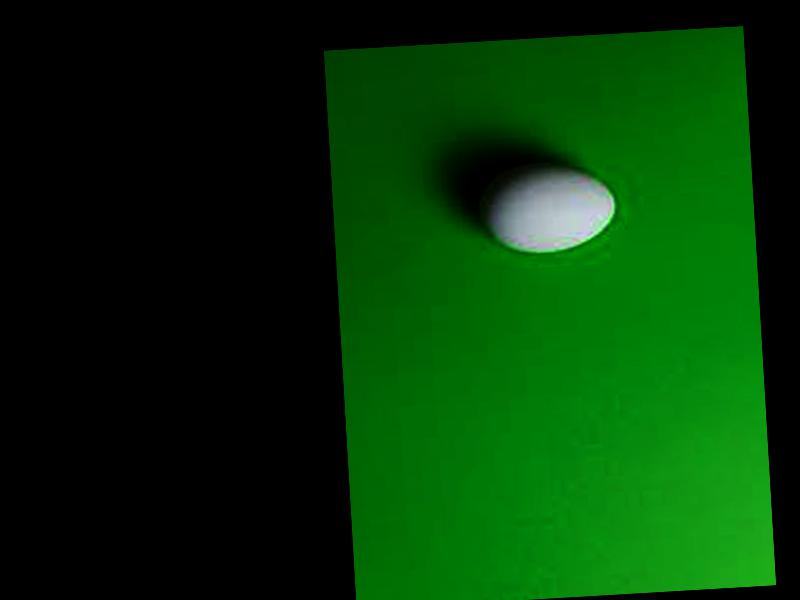Eggs: (476, 159, 618, 254)
